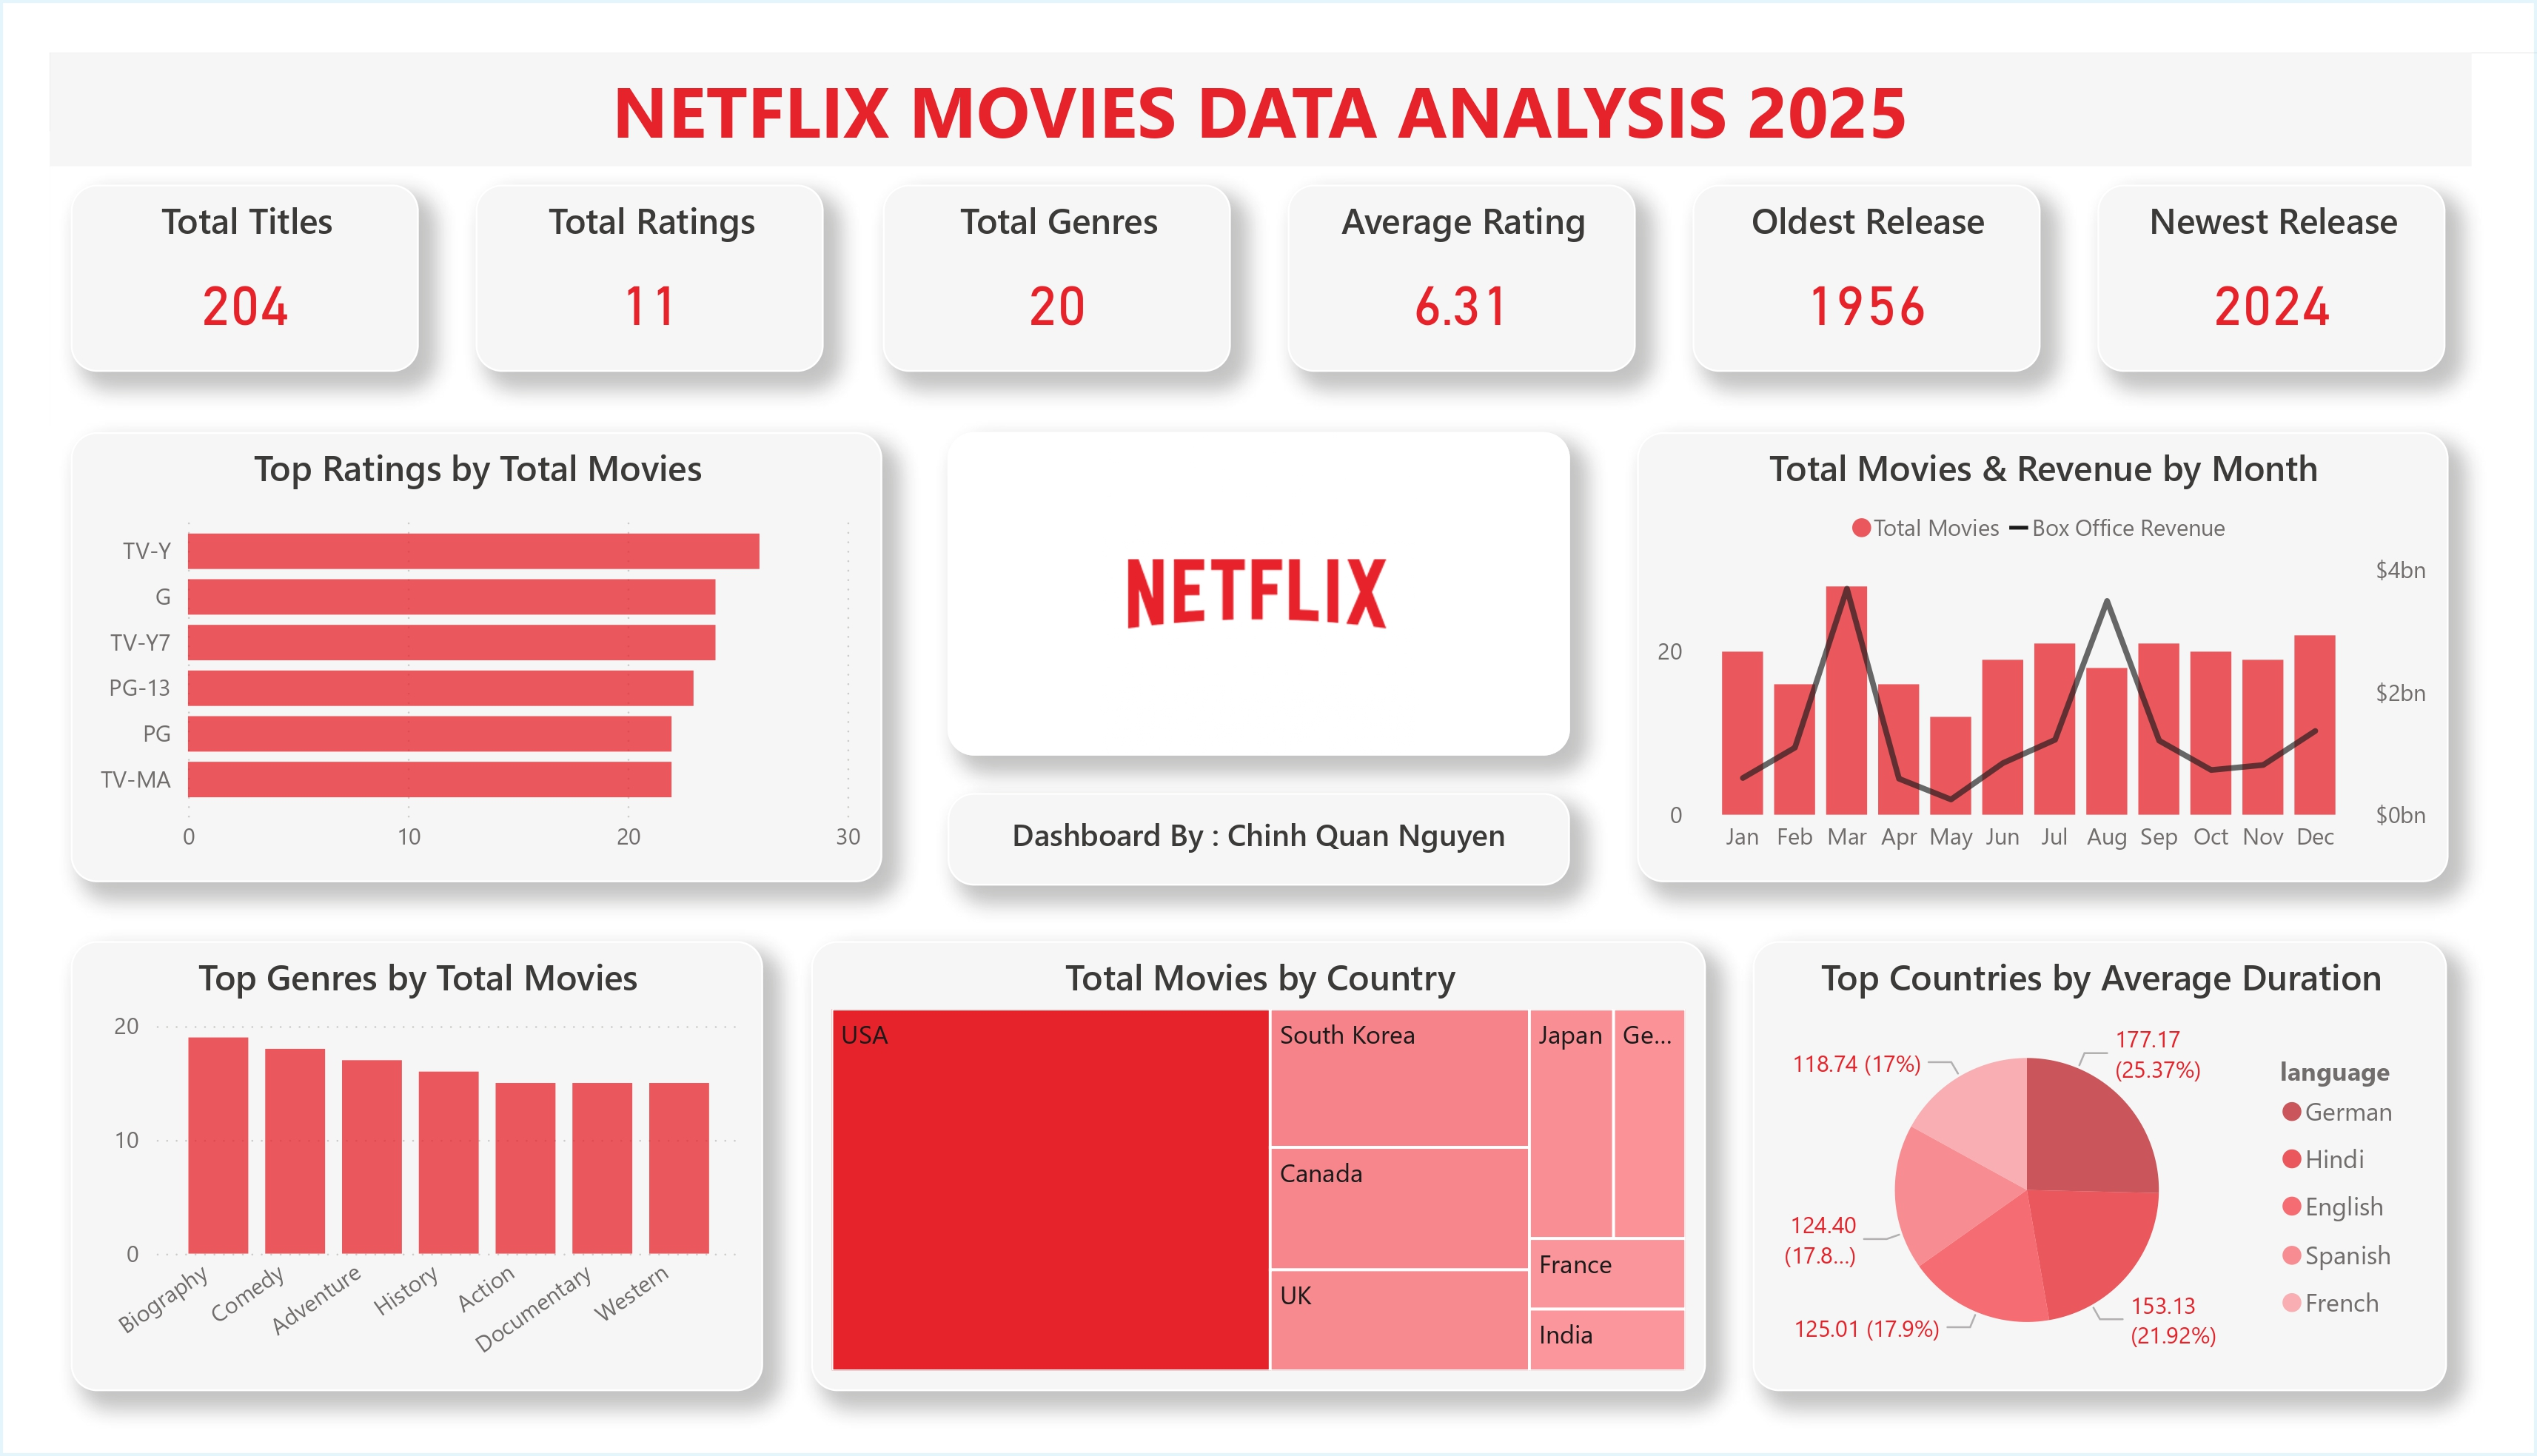

The page's visual inventory and layout, read from the dashboard file:
{"tool":"powerbi","page":{"name":"Overview","canvas":[1280,720],"ordinal":0},"visuals":[{"type":"textbox","box":[0,0,1280.3,60.4],"z":0},{"type":"card","title":"Total Titles","fields":{"Values":["Count(movies.title)"]},"box":[11.2,70,184.5,99.4],"z":1000,"group":"g2"},{"type":"clusteredBarChart","title":"Top Ratings by Total Movies","fields":{"Y":["Count(movies.title)"],"Category":["movies.rating"]},"box":[11.2,200.6,428.5,238.1],"z":1000,"group":"g3"},{"type":"card","title":"Total Ratings","fields":{"Values":["Count(movies.rating)"]},"box":[225.7,70,184.5,99.4],"z":2000,"group":"g2"},{"type":"lineStackedColumnComboChart","title":"Total Movies & Revenue by Month","fields":{"Y":["Count(movies.title)"],"Y2":["Sum(movies.box_office_revenue)"],"Category":["movies.MonthShort"]},"box":[838.9,200.6,428.5,238.1],"z":2000,"group":"g3"},{"type":"card","title":"Total Genres","fields":{"Values":["Count(movies.genre_primary)"]},"box":[440.2,70,184.5,99.4],"z":3000,"group":"g2"},{"type":"group","id":"g1","title":"Group 1","box":[474.9,200.3,329.2,238.8],"z":3000,"group":"g3"},{"type":"card","title":"Oldest Release","fields":{"Values":["Min(movies.release_year)"]},"box":[868.8,70,184,99.1],"z":4000,"group":"g2"},{"type":"clusteredColumnChart","title":"Top Genres by Total Movies","fields":{"Category":["movies.genre_primary"],"Y":["Count(movies.title)"]},"box":[11.2,469.1,365.5,238.1],"z":4000},{"type":"group","id":"g2","title":"Group 2","box":[11.2,70,1256.2,99.4],"z":5000},{"type":"card","title":"Average Rating","fields":{"Values":["Avg(movies.imdb_rating)"]},"box":[654.8,70,184,99.1],"z":5000,"group":"g2"},{"type":"card","title":"Newest Release","fields":{"Values":["Max(movies.release_year)"]},"box":[1082.9,70,184.5,99.4],"z":6000,"group":"g2"},{"type":"treemap","title":"Total Movies by Country","fields":{"Values":["Count(movies.title)"],"Group":["movies.country_of_origin"]},"box":[401.9,469.1,473.3,238.1],"z":6000},{"type":"pieChart","title":"Top Countries by Average Duration","fields":{"Category":["movies.language"],"Y":["Avg(movies.duration_minutes)"]},"box":[900.5,469.1,366.9,238.1],"z":7000},{"type":"group","id":"g3","title":"Group 3","box":[11.2,200.3,1256.2,238.1],"z":7001},{"type":"image","title":"Total Titles","box":[474.9,200.3,329.2,171.3],"z":8000,"group":"g1"},{"type":"textbox","box":[474.9,390.5,329.2,48.6],"z":10000,"group":"g1"}]}

Visuals, with their boxes in screenshot pixels (x1, y1, x2, y2), scaled from the page's 1280x720 canvas onto the 2537x1456 screenshot:
textbox: crop(0, 0, 2536, 122)
"Total Titles" card: crop(22, 141, 388, 343)
"Top Ratings by Total Movies" clusteredBarChart: crop(22, 406, 871, 888)
"Total Ratings" card: crop(447, 141, 813, 343)
"Total Movies & Revenue by Month" lineStackedColumnComboChart: crop(1663, 406, 2512, 888)
"Total Genres" card: crop(873, 141, 1239, 343)
"Group 1" group: crop(941, 405, 1594, 888)
"Oldest Release" card: crop(1722, 141, 2087, 342)
"Top Genres by Total Movies" clusteredColumnChart: crop(22, 949, 747, 1430)
"Group 2" group: crop(22, 141, 2512, 343)
"Average Rating" card: crop(1298, 141, 1663, 342)
"Newest Release" card: crop(2146, 141, 2512, 343)
"Total Movies by Country" treemap: crop(797, 949, 1735, 1430)
"Top Countries by Average Duration" pieChart: crop(1785, 949, 2512, 1430)
"Group 3" group: crop(22, 405, 2512, 887)
"Total Titles" image: crop(941, 405, 1594, 751)
textbox: crop(941, 790, 1594, 888)
